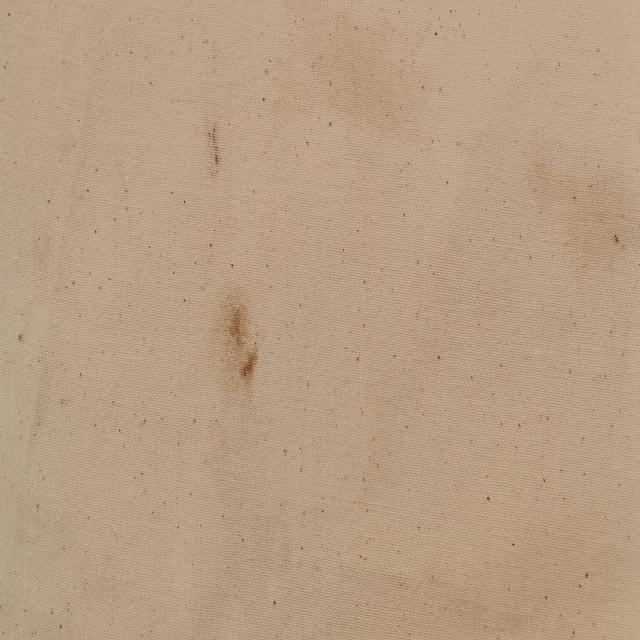taaaches: (210, 274, 262, 404), (199, 98, 225, 182)
